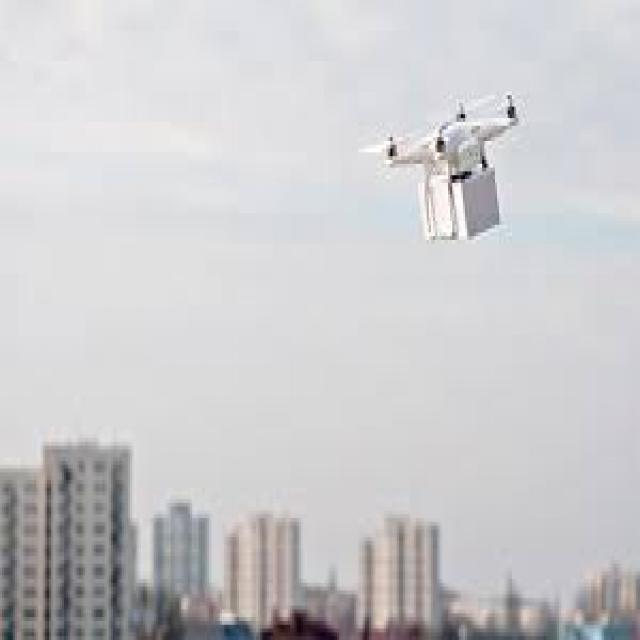drones: (349, 91, 536, 249)
